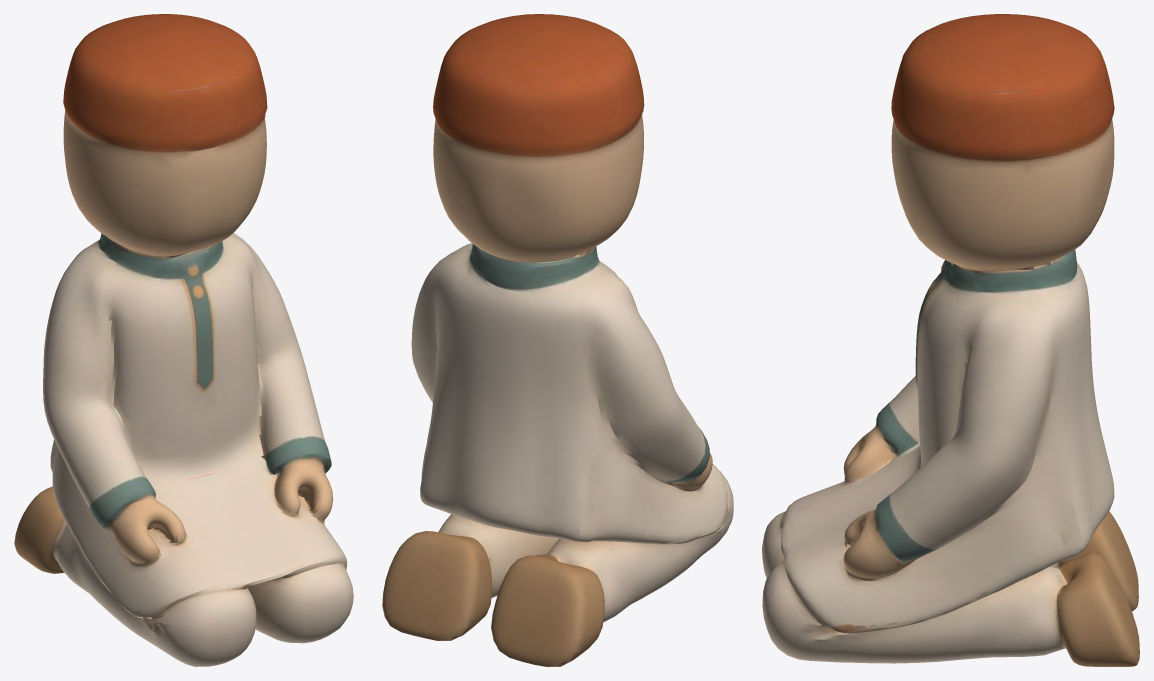
The model's file is Meshy_AI_model.glb.
The picture shows the model from 3 angles, left to right: view 1: azimuth 30°, elevation 25°; view 2: azimuth 150°, elevation 25°; view 3: azimuth 270°, elevation 25°; orthographic projection. The views are drawn at different scales.
Visible parts, largest first — view 1: Mesh0; view 2: Mesh0; view 3: Mesh0.
Boxes of the visible parts, bbox=[...] form: Mesh0: bbox=[14, 14, 353, 666]; Mesh0: bbox=[382, 14, 733, 666]; Mesh0: bbox=[762, 14, 1139, 666].
Size of the model in its own units: 0.9044 by 1.9 by 1.09.
1 material, 1 textured.
